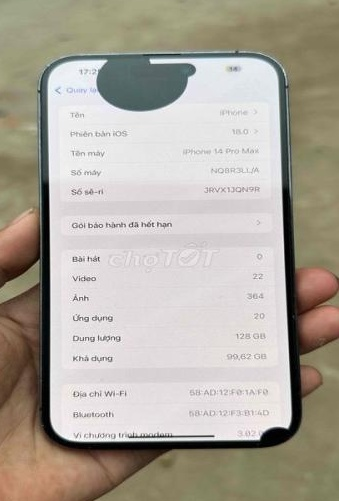screen_defect: (91, 42, 199, 120), (248, 407, 297, 440)
